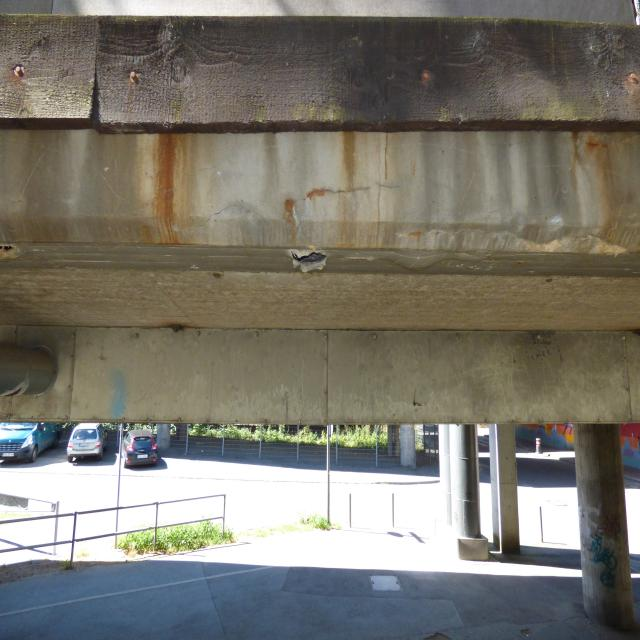corrosion: (278, 129, 437, 245), (142, 129, 197, 247), (0, 340, 62, 398), (563, 126, 614, 195), (154, 316, 203, 338), (125, 64, 140, 120), (624, 70, 640, 103), (9, 63, 28, 86), (419, 67, 435, 86), (212, 271, 222, 280)
